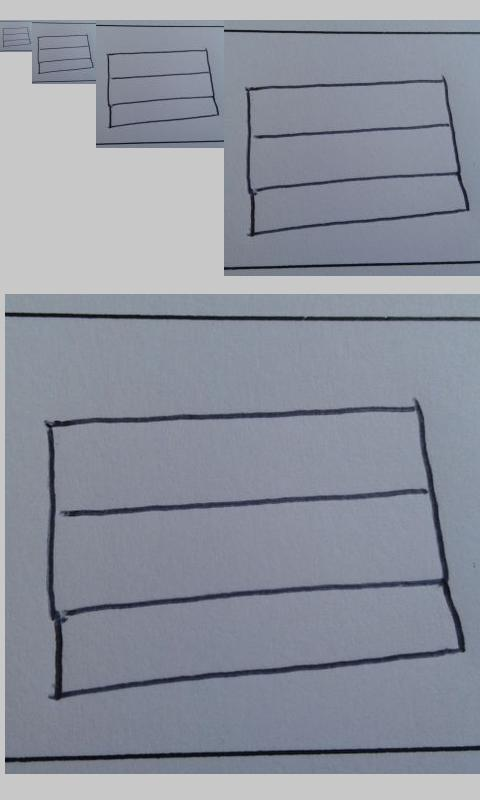list_view: (44, 400, 469, 705), (244, 78, 471, 238), (106, 49, 219, 129), (37, 34, 96, 75), (2, 26, 31, 48)
